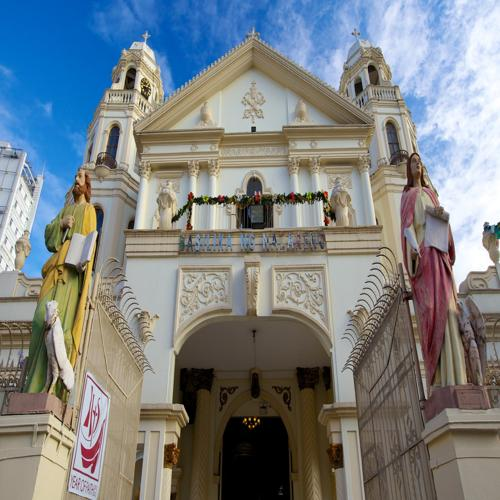Quiapo Church: (60, 13, 438, 487)
